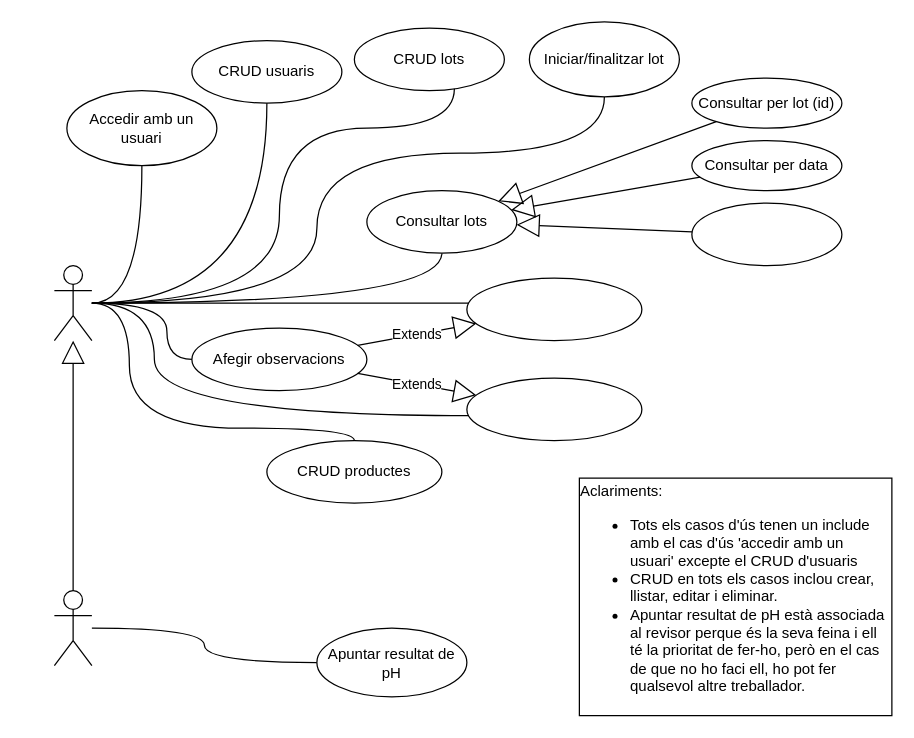
Some shapes in this 914 by 738 pixel diagram are drawn without their labels. Each missing label, with the box of its shape:
Consultar per proveïdor: (691, 202, 842, 266)
CRUD clients: (466, 377, 642, 441)
CRUD proveïdors: (466, 277, 642, 341)
Revisor d'aigua: (53, 589, 92, 666)
Treballador: (53, 264, 92, 341)
